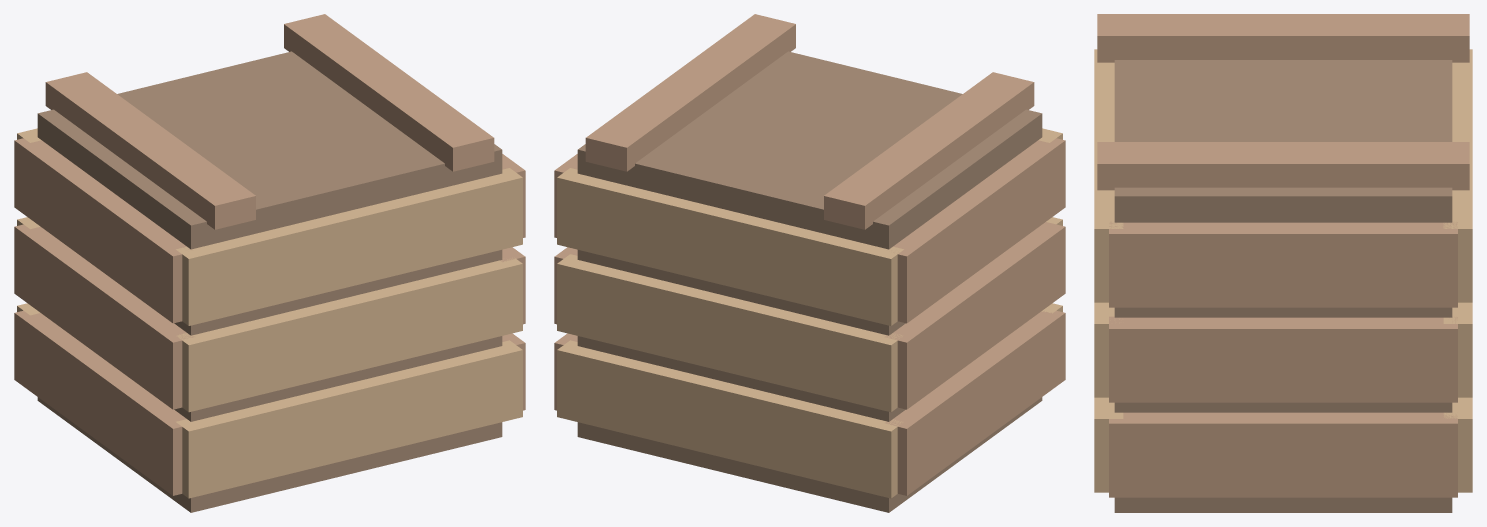
The model's file is wooden_crate.fbx.
3 views of the same model, side by side, from view 1: azimuth 30°, elevation 25°; view 2: azimuth 150°, elevation 25°; view 3: azimuth 270°, elevation 25° (orthographic). The views are drawn at different scales.
Visible parts, largest first — view 1: wooden_crate_geometry; view 2: wooden_crate_geometry; view 3: wooden_crate_geometry.
Part boxes in pixels (box(x1,y1,x2,y2)): wooden_crate_geometry: box(14, 14, 525, 512); wooden_crate_geometry: box(554, 14, 1065, 512); wooden_crate_geometry: box(1094, 14, 1472, 512).
Size of the model in its own units: 0.77 by 0.645 by 0.65.
